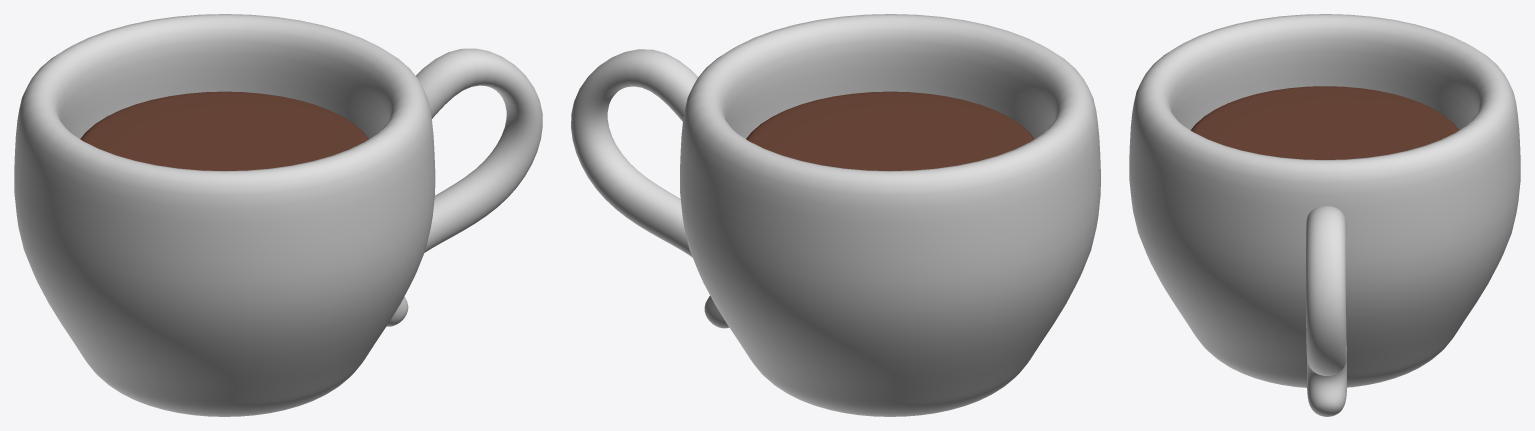
Rendered from Coffee.fbx.
3 views of the same model, side by side, from view 1: azimuth 30°, elevation 25°; view 2: azimuth 150°, elevation 25°; view 3: azimuth 270°, elevation 25° (orthographic). The views are drawn at different scales.
Visible parts, largest first — view 1: Taza, Círculo, Asa; view 2: Taza, Círculo, Asa; view 3: Taza, Círculo, Asa.
Boxes of the visible parts, x1,y1,x2,y2 form: Taza: (14,14,435,416); Círculo: (80,91,368,170); Asa: (386,48,542,326); Taza: (680,14,1100,416); Círculo: (746,91,1034,170); Asa: (571,49,729,328); Taza: (1129,14,1520,387); Círculo: (1190,86,1459,159); Asa: (1306,206,1347,416).
Size of the model in its own units: 36.78 by 19.62 by 26.99.
